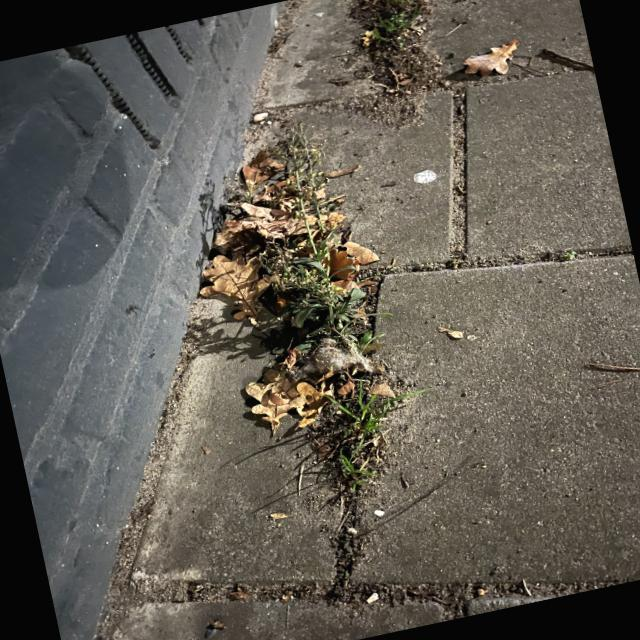leaves: (199, 149, 343, 326), (466, 41, 520, 76)
weedling: (564, 252, 576, 259)
